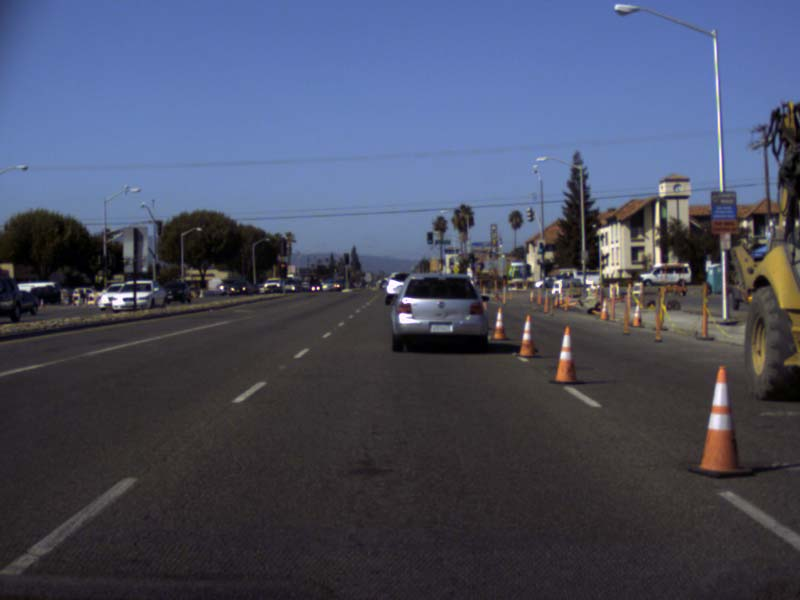Green: (426, 231, 433, 245), (538, 241, 543, 253)
Red: (278, 262, 286, 277), (344, 253, 348, 264)
